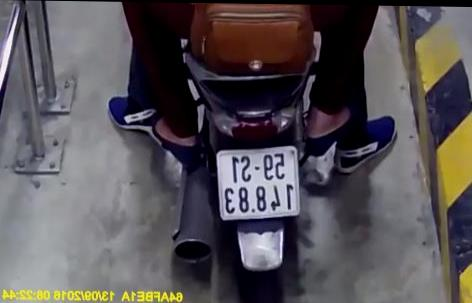License_Plate: (213, 139, 306, 226)
